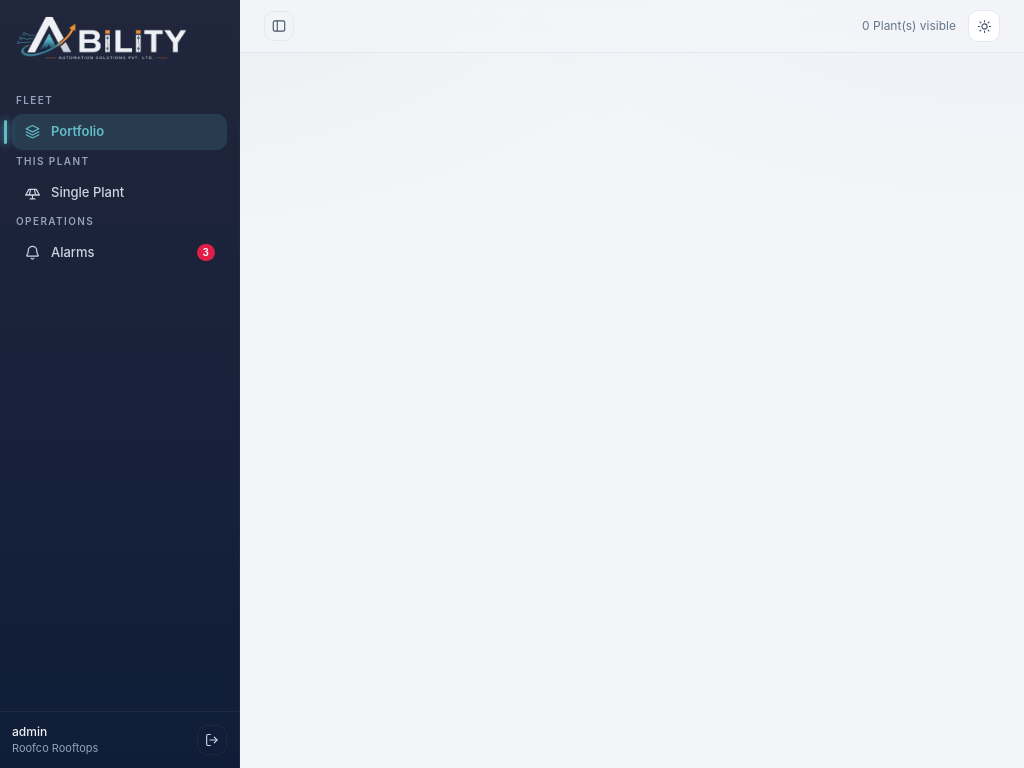
Scenario: collapsible sidebar › folds to a rail that keeps each link's name and the Alarm count
The width and height of the screenshot is (1024, 768).
Click the button named "Collapse the sidebar" at [279, 26], box [264,11,294,41]
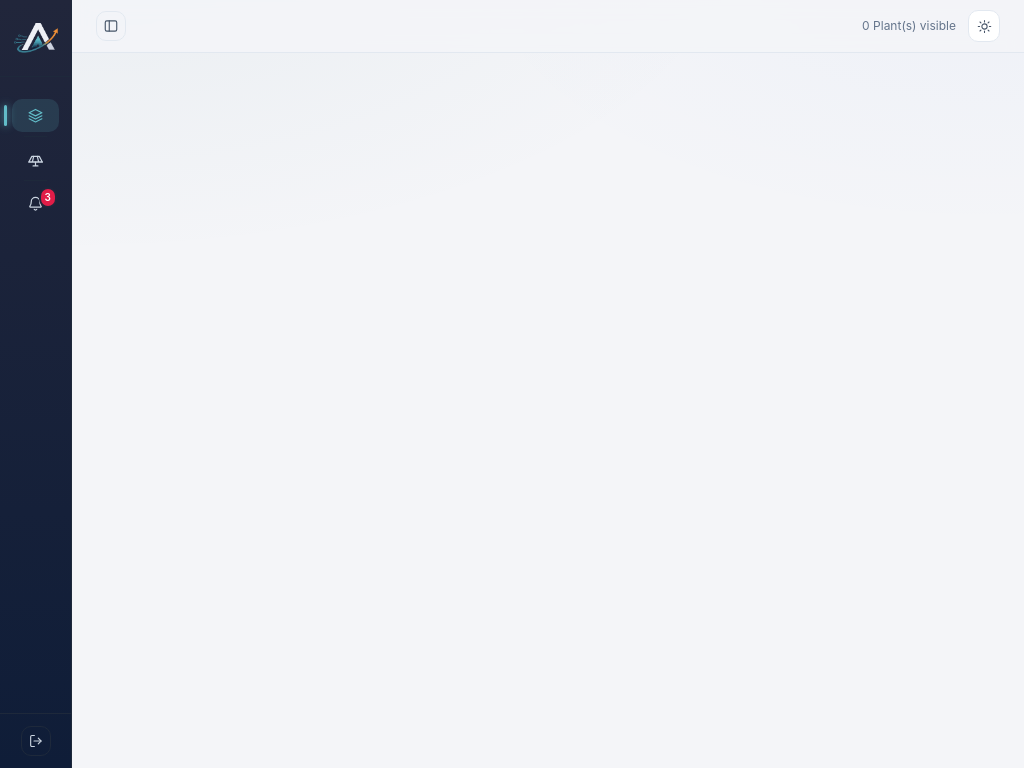
Expected: the text titled "3 Alarm(s) open and not yet acknowledged" is shown, [44,191,51,203]
Expected: the button named "Expand the sidebar" is collapsed, [96,11,126,41]
